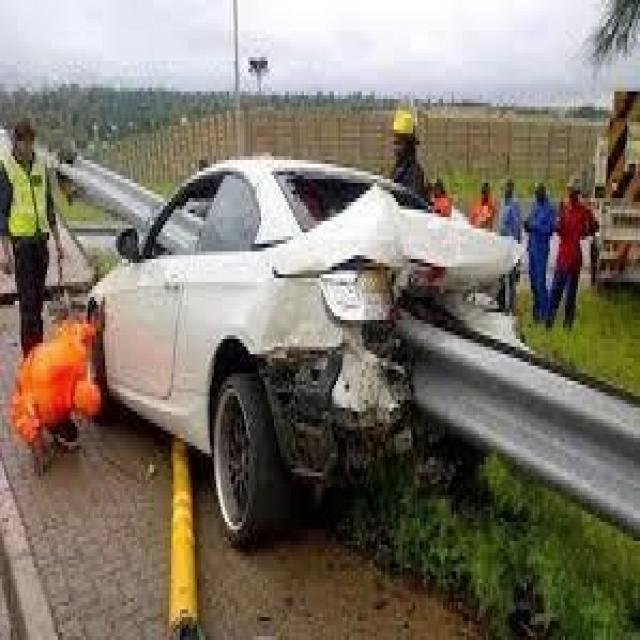severe: (79, 137, 520, 549)
